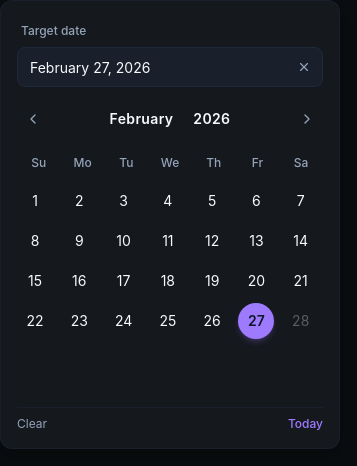
Scenario: Calendar Component › clears selection via Footer Clear button
// Footer clear button
Click the button "Clear" at (32, 424), box [17, 416, 47, 432]
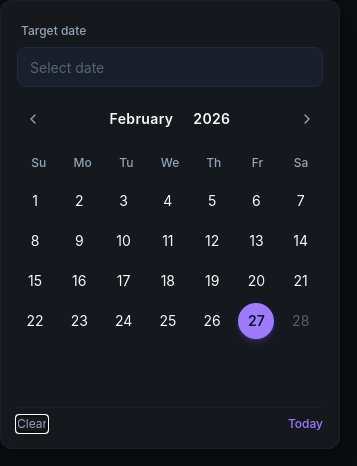
Expected: the field with placeholder "Select date" is empty, [17, 47, 323, 87]
